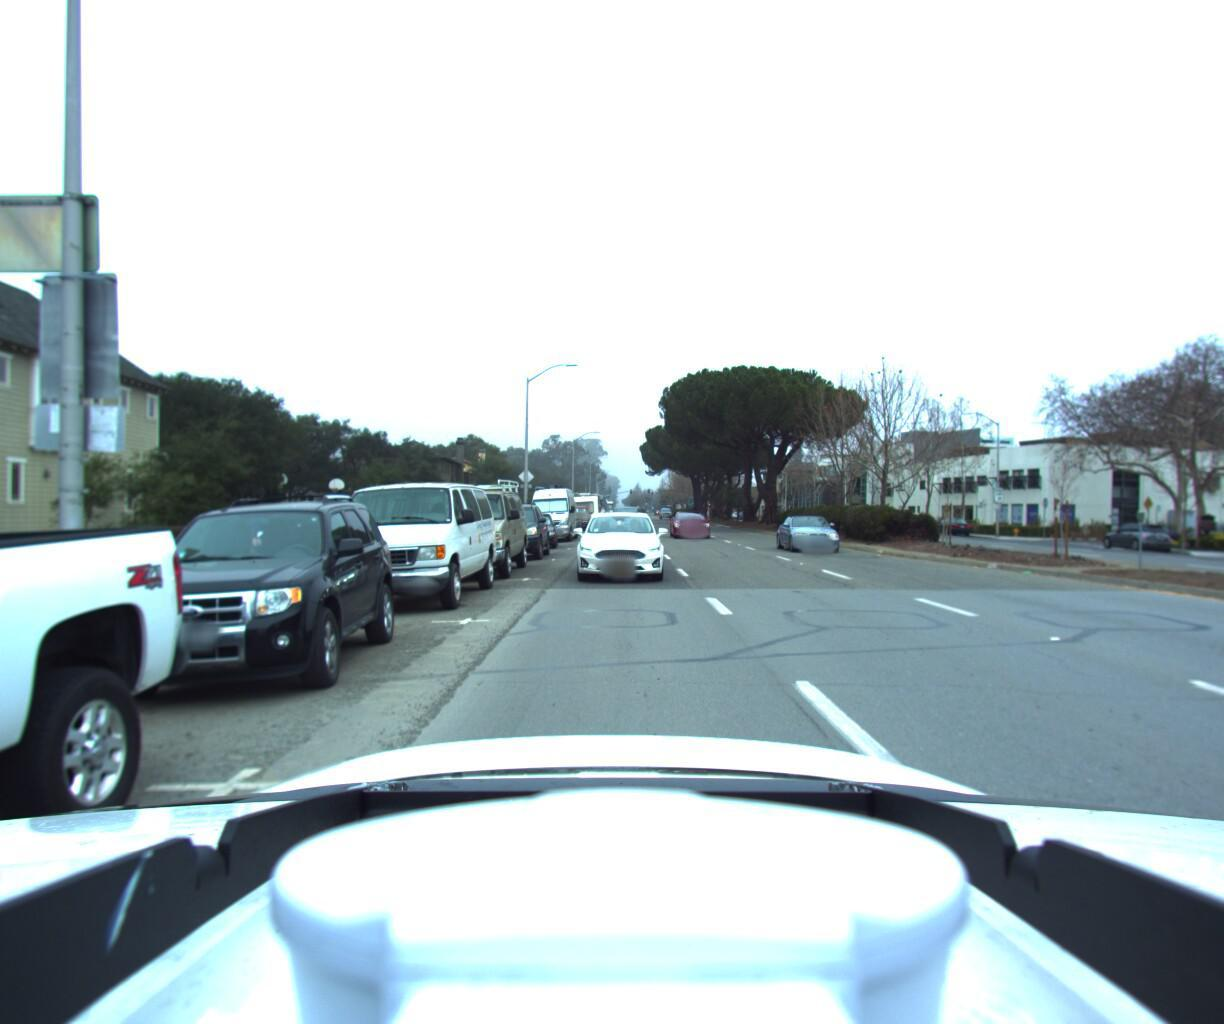car: (63, 479, 404, 716), (304, 470, 498, 618), (406, 471, 527, 583), (565, 503, 660, 580), (471, 501, 549, 562), (523, 480, 578, 542), (780, 513, 852, 556), (1098, 519, 1172, 551), (562, 485, 605, 530), (510, 511, 556, 552), (670, 509, 717, 540), (933, 514, 976, 535), (562, 504, 593, 531)
other_vehicle: (582, 491, 612, 526)
